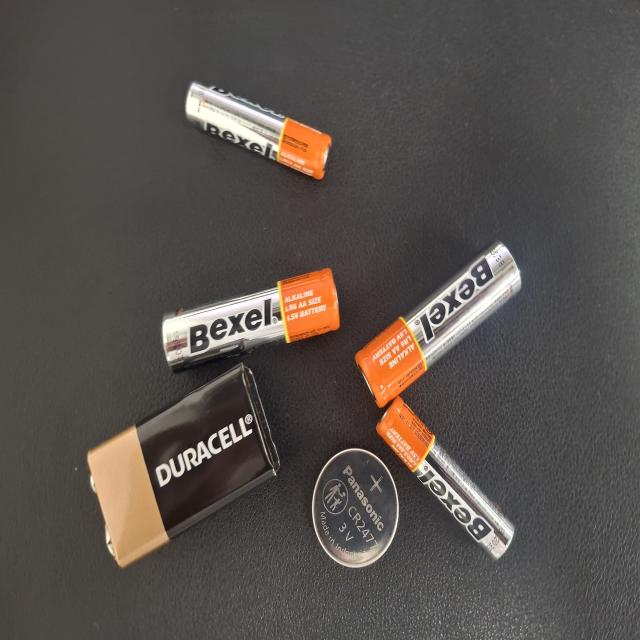9V: (360, 73, 552, 276)
AA: (119, 234, 283, 397), (301, 270, 478, 371)
AAA: (126, 82, 263, 244), (308, 461, 454, 557)
COIN: (242, 73, 327, 192)
